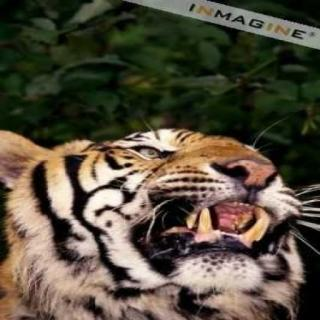Tiger: (0, 92, 320, 319)
